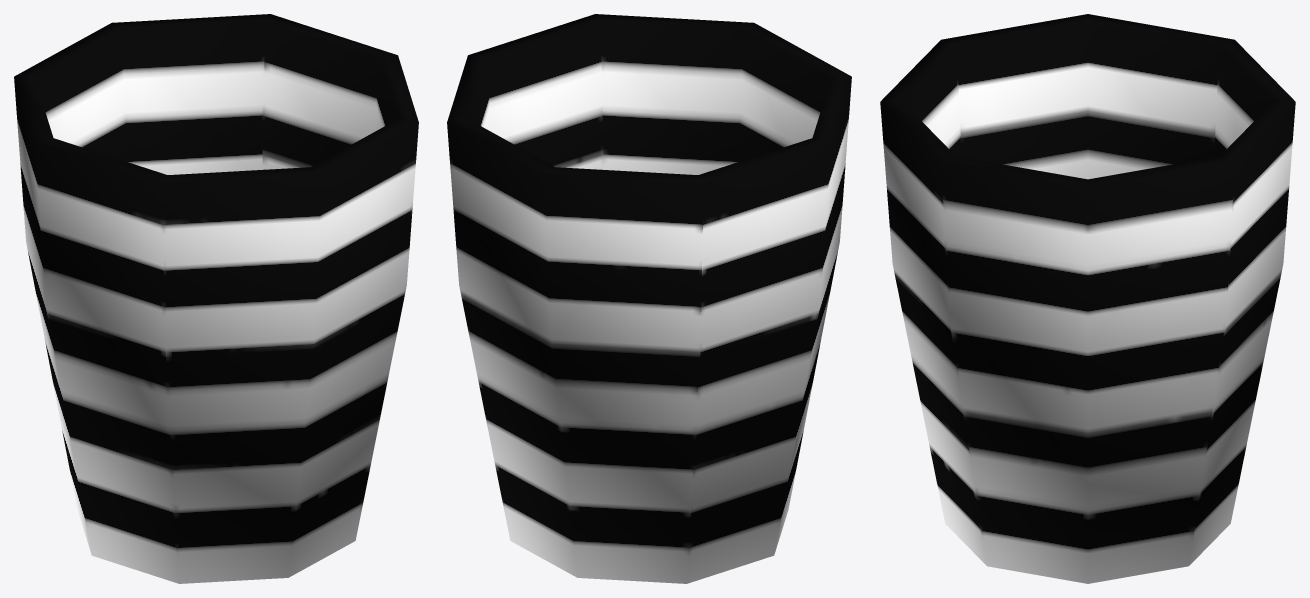
File: cup.fbx
3 renders of one model, left to right at view 1: azimuth 30°, elevation 25°; view 2: azimuth 150°, elevation 25°; view 3: azimuth 270°, elevation 25°, orthographic.
Parts seen in each view (by area): view 1: Circle; view 2: Circle; view 3: Circle.
Boxes of the visible parts, x1=… form: Circle: x1=14, y1=14, x2=418, y2=583; Circle: x1=447, y1=14, x2=851, y2=583; Circle: x1=880, y1=14, x2=1295, y2=583.
Bounding box in the file's own units: 11.61 × 13.04 × 11.61.
1 material, 1 textured.
